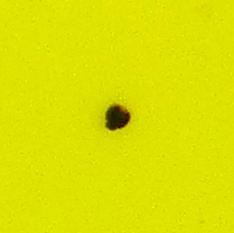Coleoptera: (100, 100, 134, 133)
